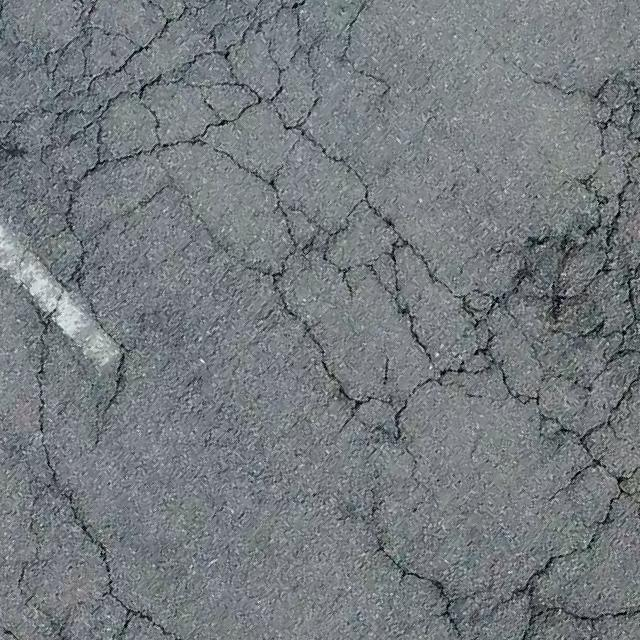GRIETA: (502, 53, 577, 96)
PIEL DE COCODRILO: (0, 1, 639, 639)
